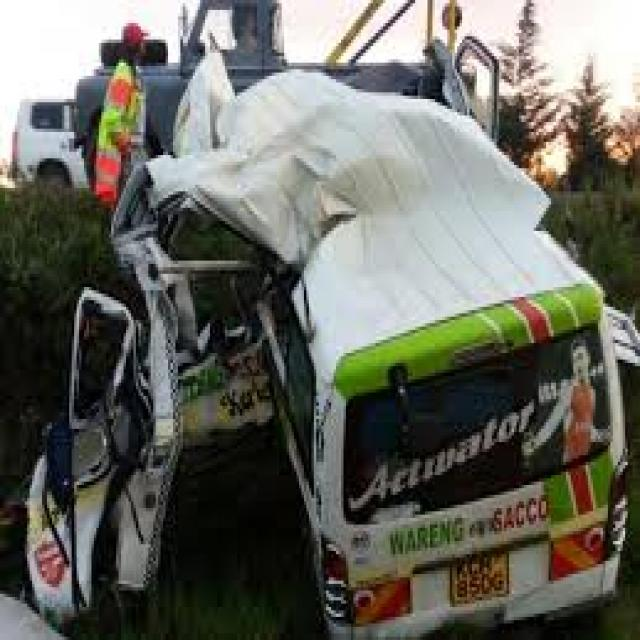accident: (39, 29, 640, 640)
